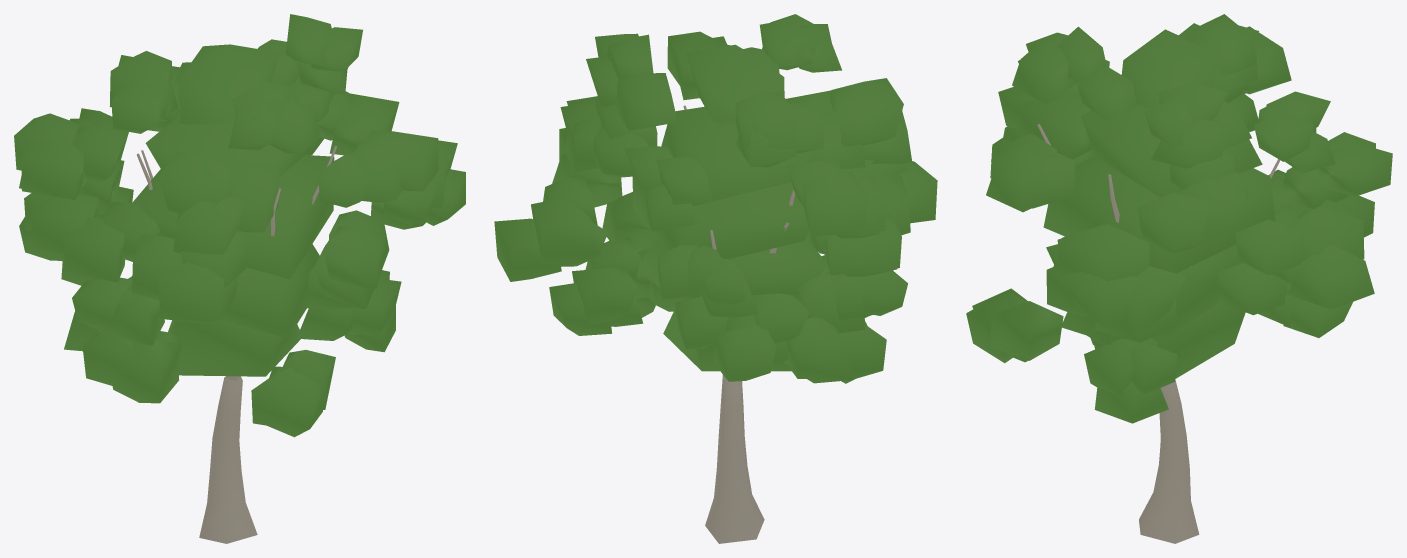
File: Blender_GreenAsh_1_Far.glb
3 renders of one model, left to right at view 1: azimuth 30°, elevation 25°; view 2: azimuth 150°, elevation 25°; view 3: azimuth 270°, elevation 25°, orthographic. The views are drawn at different scales.
Visible parts, largest first — view 1: Blender_GreenAsh_1_Far; view 2: Blender_GreenAsh_1_Far; view 3: Blender_GreenAsh_1_Far.
Part boxes in pixels (x1,y1,x2,y2): Blender_GreenAsh_1_Far: (14, 14, 465, 543); Blender_GreenAsh_1_Far: (494, 14, 937, 543); Blender_GreenAsh_1_Far: (966, 14, 1392, 543).
Size of the model in its own units: 10.07 by 12.22 by 9.41.
